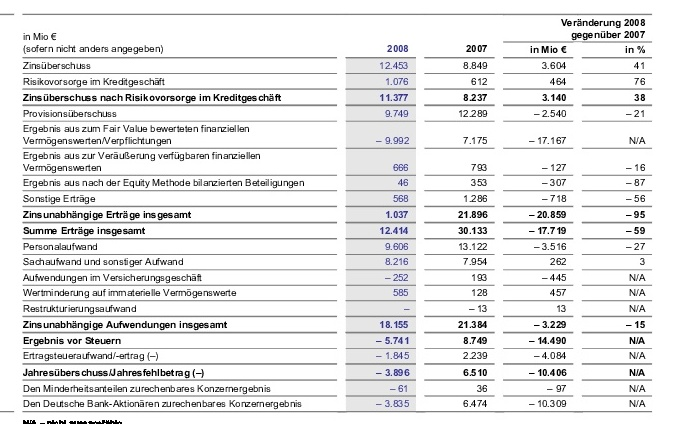table: (0, 0, 679, 424)
